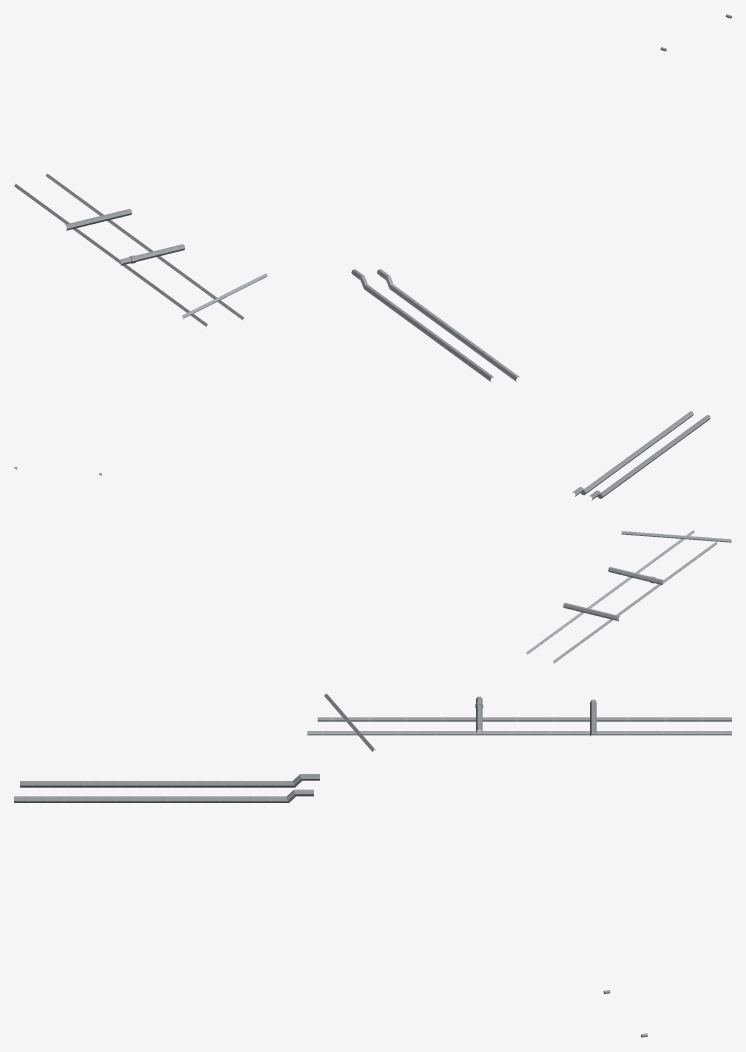
Rendered from kd_stage_135ebf_0_61_bounded.glb.
3 renders of one model, top to bottom at view 1: azimuth 30°, elevation 25°; view 2: azimuth 150°, elevation 25°; view 3: azimuth 270°, elevation 25°, orthographic. The views are drawn at different scales.
Parts seen in each view (by area): view 1: kd_stage_135ebf_0_61_bounded; view 2: kd_stage_135ebf_0_61_bounded; view 3: kd_stage_135ebf_0_61_bounded.
Part boxes in pixels (x1,y1,x2,y2): kd_stage_135ebf_0_61_bounded: (14, 14, 731, 382); kd_stage_135ebf_0_61_bounded: (14, 411, 731, 663); kd_stage_135ebf_0_61_bounded: (14, 693, 731, 1037).
Size of the model in its own units: 12.9 by 0.6745 by 10.67.
Materials: 1 (1 with a texture image).
